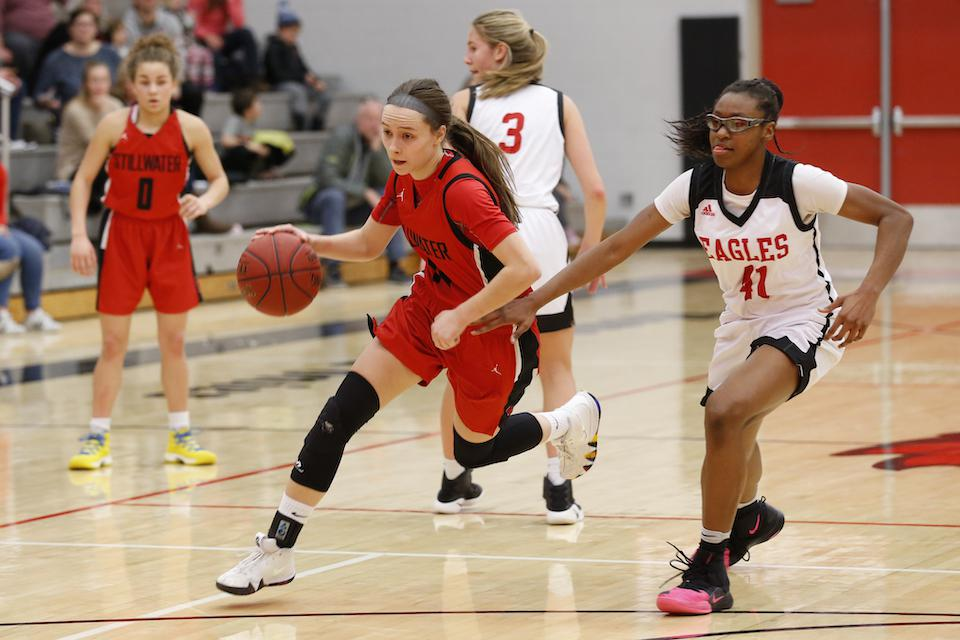b_ball: (233, 218, 327, 321)
face: (370, 70, 467, 180), (697, 80, 789, 170), (464, 19, 544, 89), (124, 43, 184, 116)
player: (224, 75, 596, 601), (629, 71, 918, 621), (431, 18, 610, 546), (64, 39, 232, 477)
